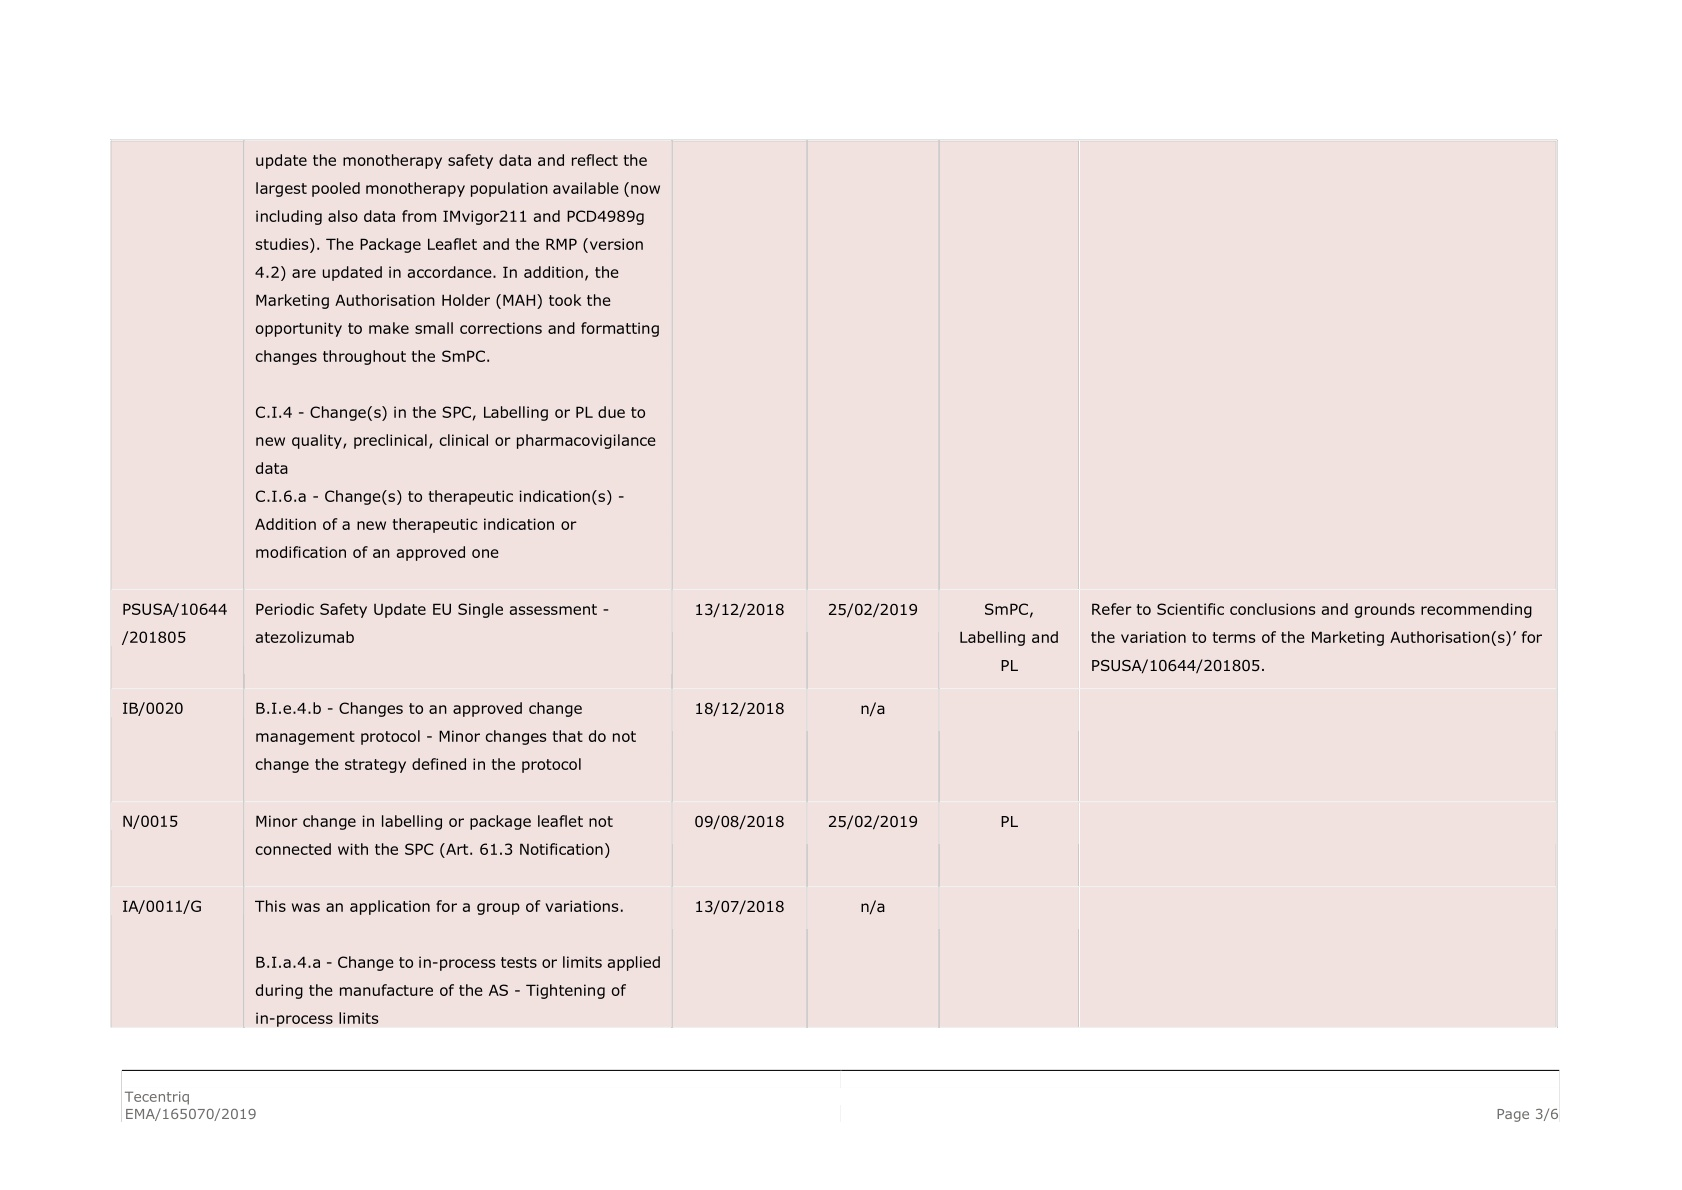full_lined: (109, 138, 1558, 1028)
